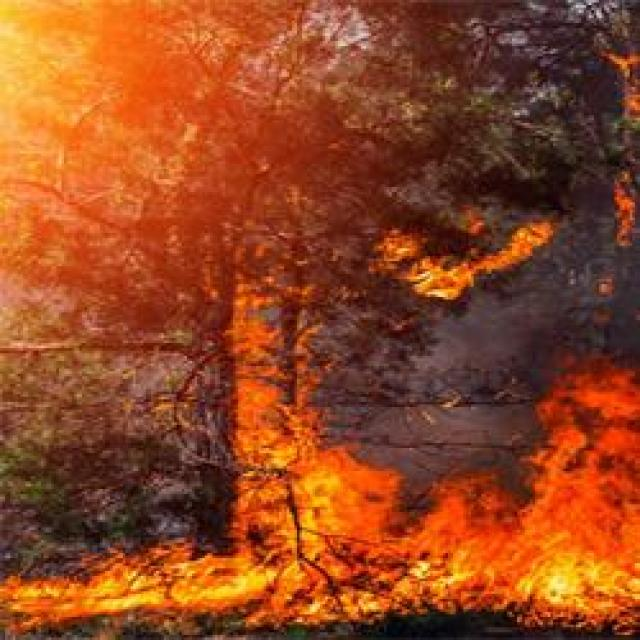fire: (216, 280, 634, 620), (0, 551, 216, 627), (380, 215, 562, 300)
